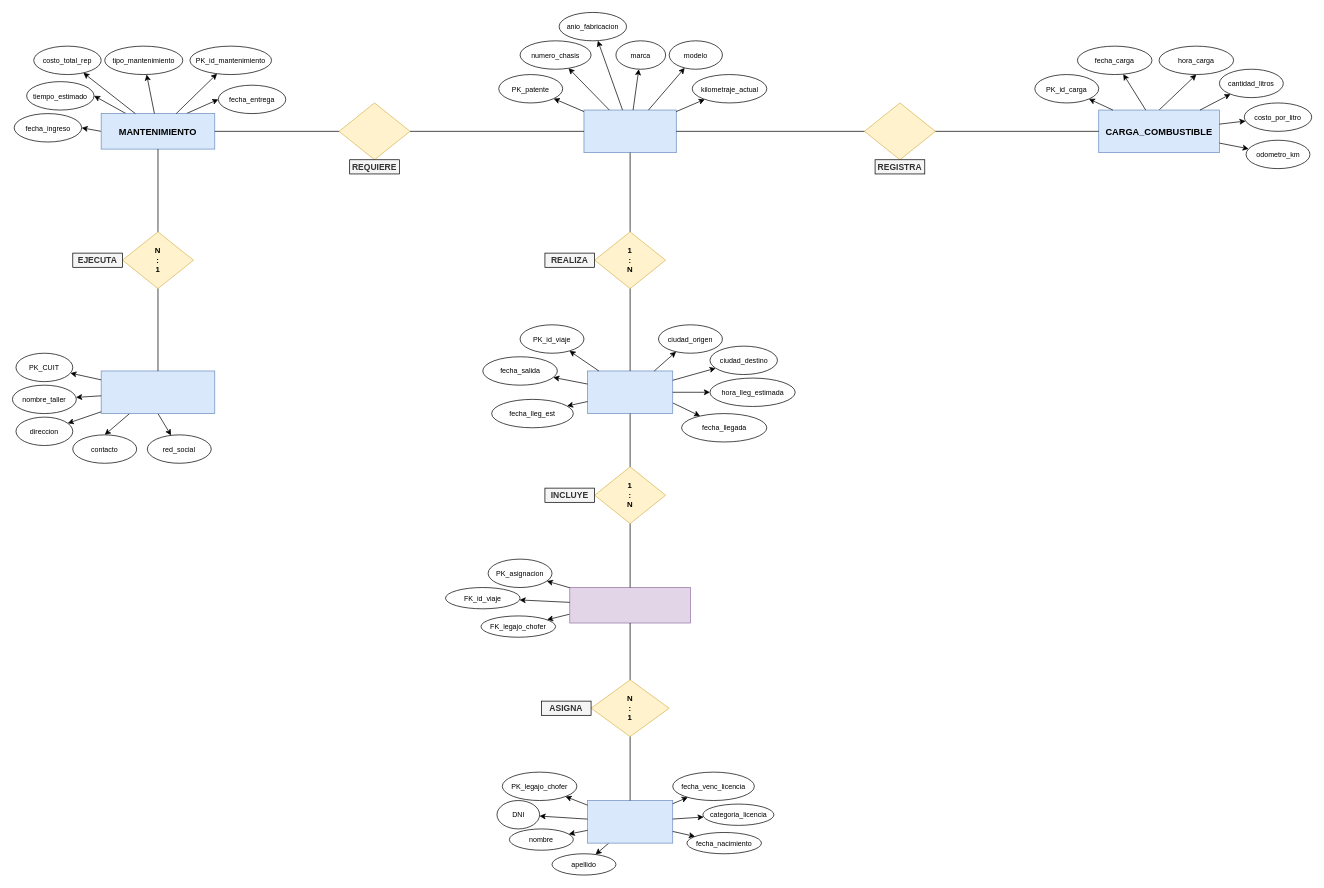
This 1324x888 diagram has some shape labels left out. Each missing label, with the box of its shape:
1:N: (864, 102, 935, 160)
ASIGNACION_VIAJE_ CHOFER: (569, 587, 690, 623)
CHOFER: (587, 800, 673, 843)
N:1: (338, 102, 410, 160)
TALLER_MECANICO: (100, 370, 215, 414)
VEHICULO: (583, 109, 676, 153)
VIAJE: (587, 370, 673, 414)
